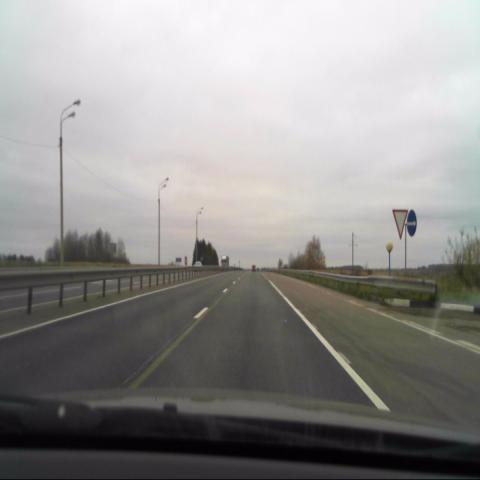4_1_2_1: (406, 209, 418, 238)
